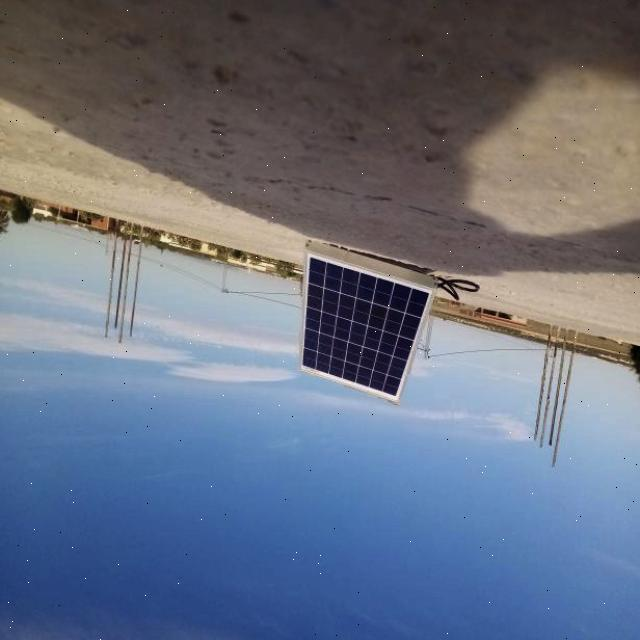Normal Solar Panel: (300, 248, 436, 406)
